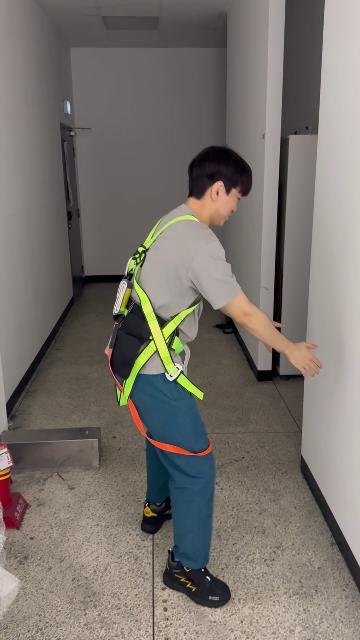helmet_not_worn: (186, 144, 253, 219)
shoe_worn: (164, 550, 231, 608), (141, 496, 172, 534)
vest_worn: (102, 215, 214, 454)
